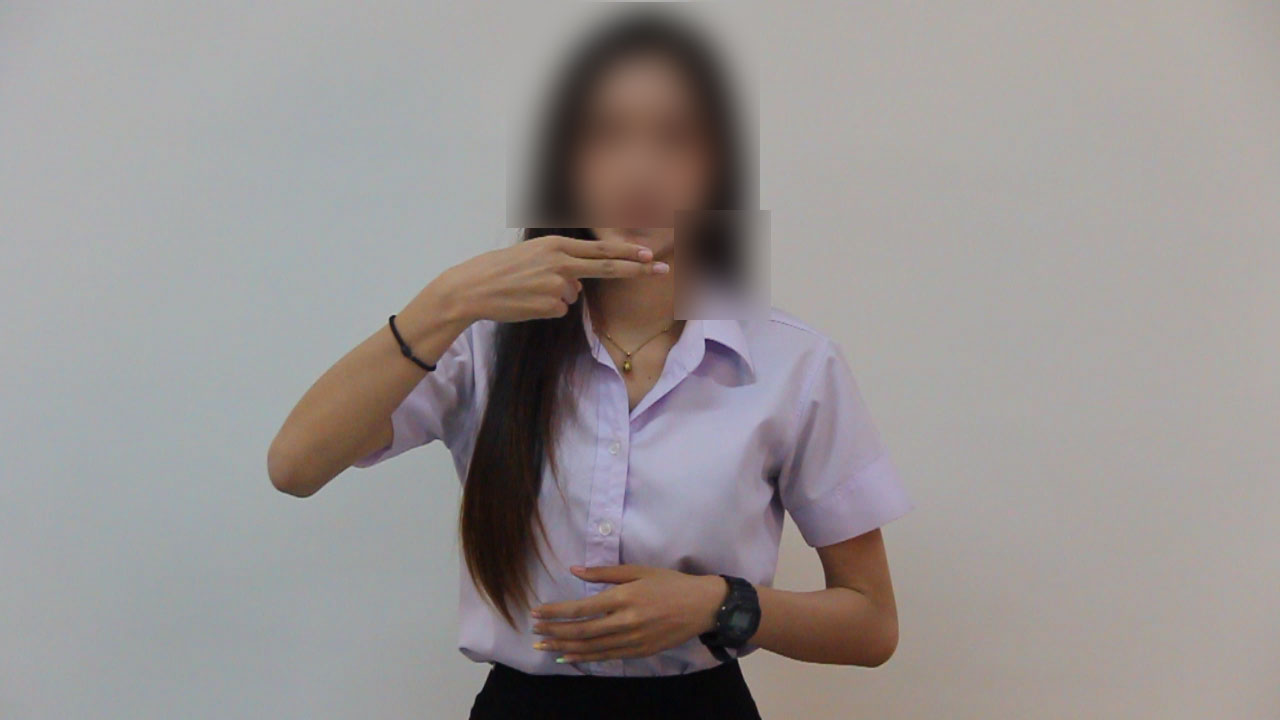hor: (429, 229, 680, 339)
